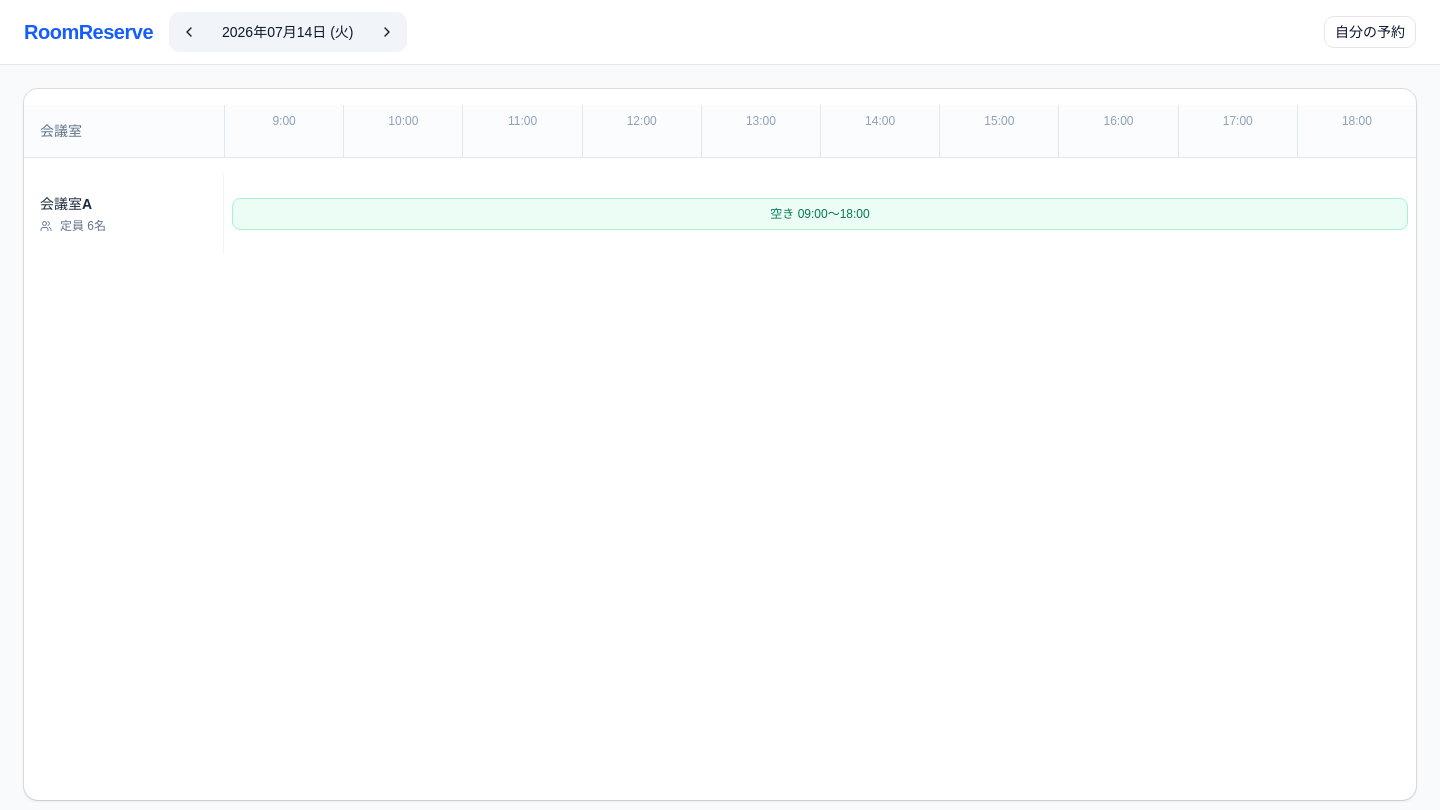
Test: 予約フロー(RFE-B) › 空いている時間帯をクリックすると、会議室・日付・時間帯選択(空き帯の範囲内の既定値)を引き継いだ予約ダイアログが開く
Step 1. Click the button "空き 09:00〜18:00" → {"x": 820, "y": 214}, box [232, 198, 1408, 230]
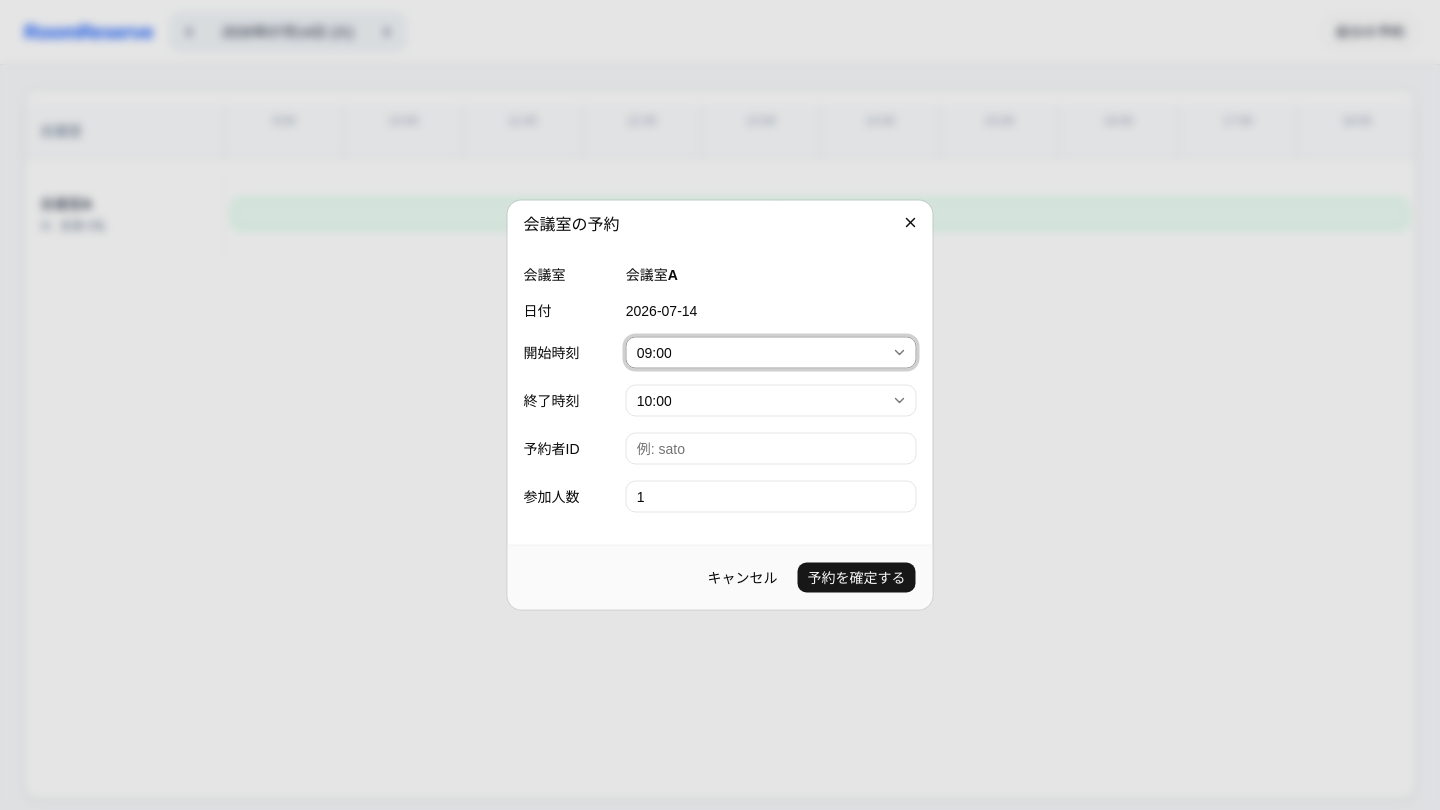
Expected: the text "会議室A" is shown, [626, 266, 678, 282]
Expected: the text "2026-07-14" is shown, [626, 302, 697, 318]
Expected: the dropdown named "開始時刻" reads "09:00", [626, 336, 917, 368]
